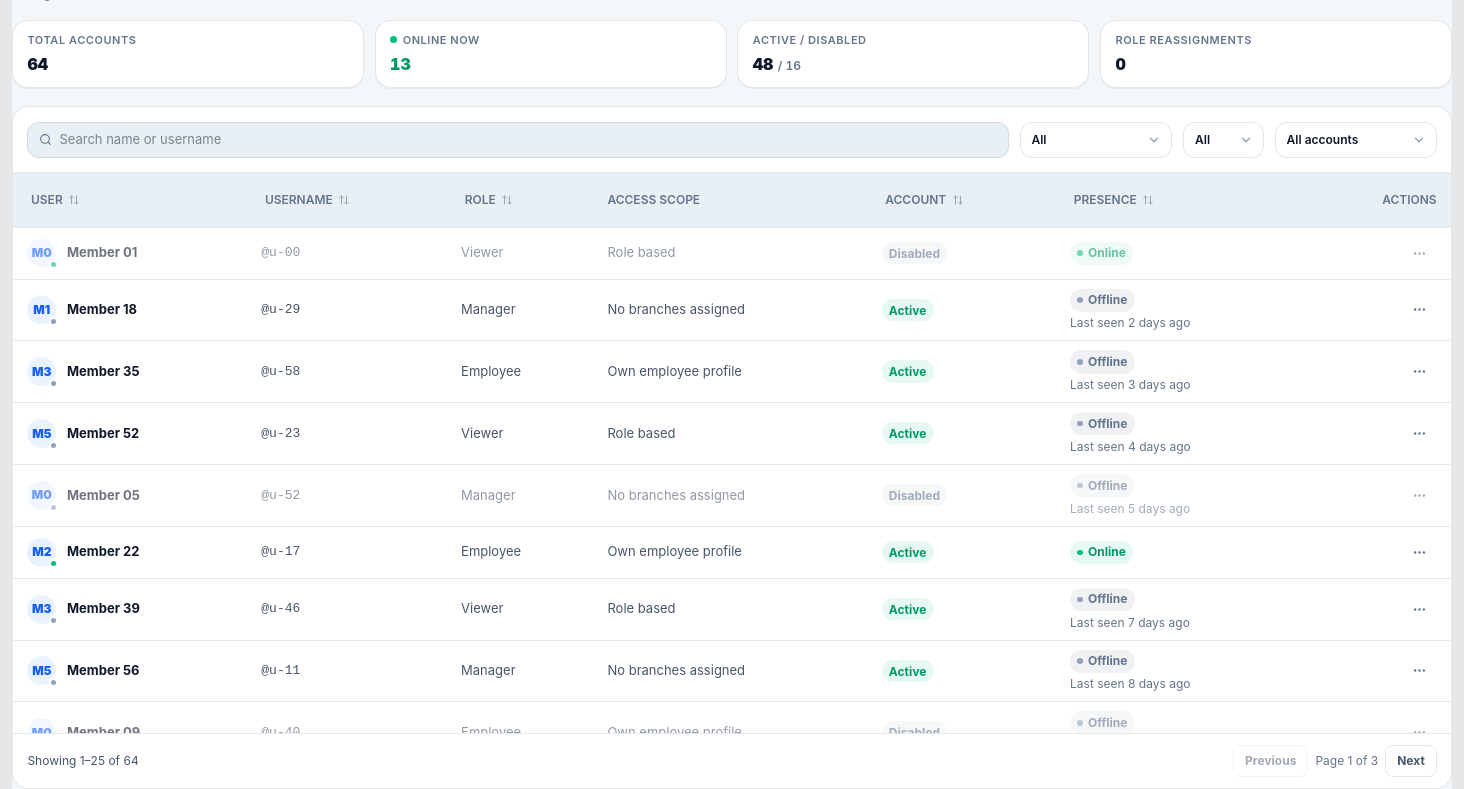
Test: Users paging resets › returns to page 1 when the search changes, even when the matches still fill several pages
(page scrolled)
Step 1. Click the button "Next" → {"x": 1411, "y": 761}, box [1385, 745, 1437, 777]
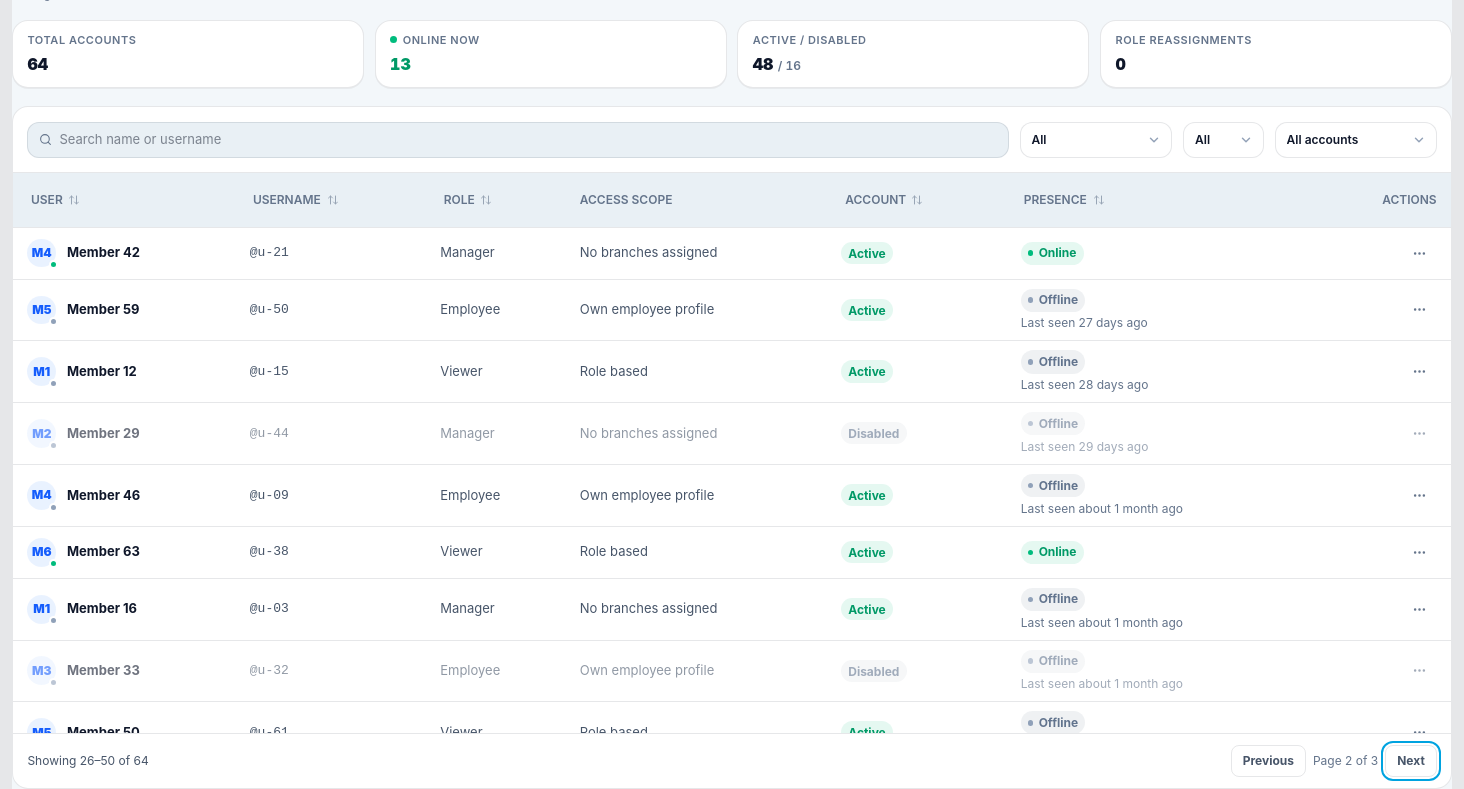
Expected: the text "Showing 26–50 of 64" is shown, [27, 753, 149, 769]
Step 2. Type "u" into the field named "Search users" → {"x": 528, "y": 140}, box [59, 130, 997, 149]
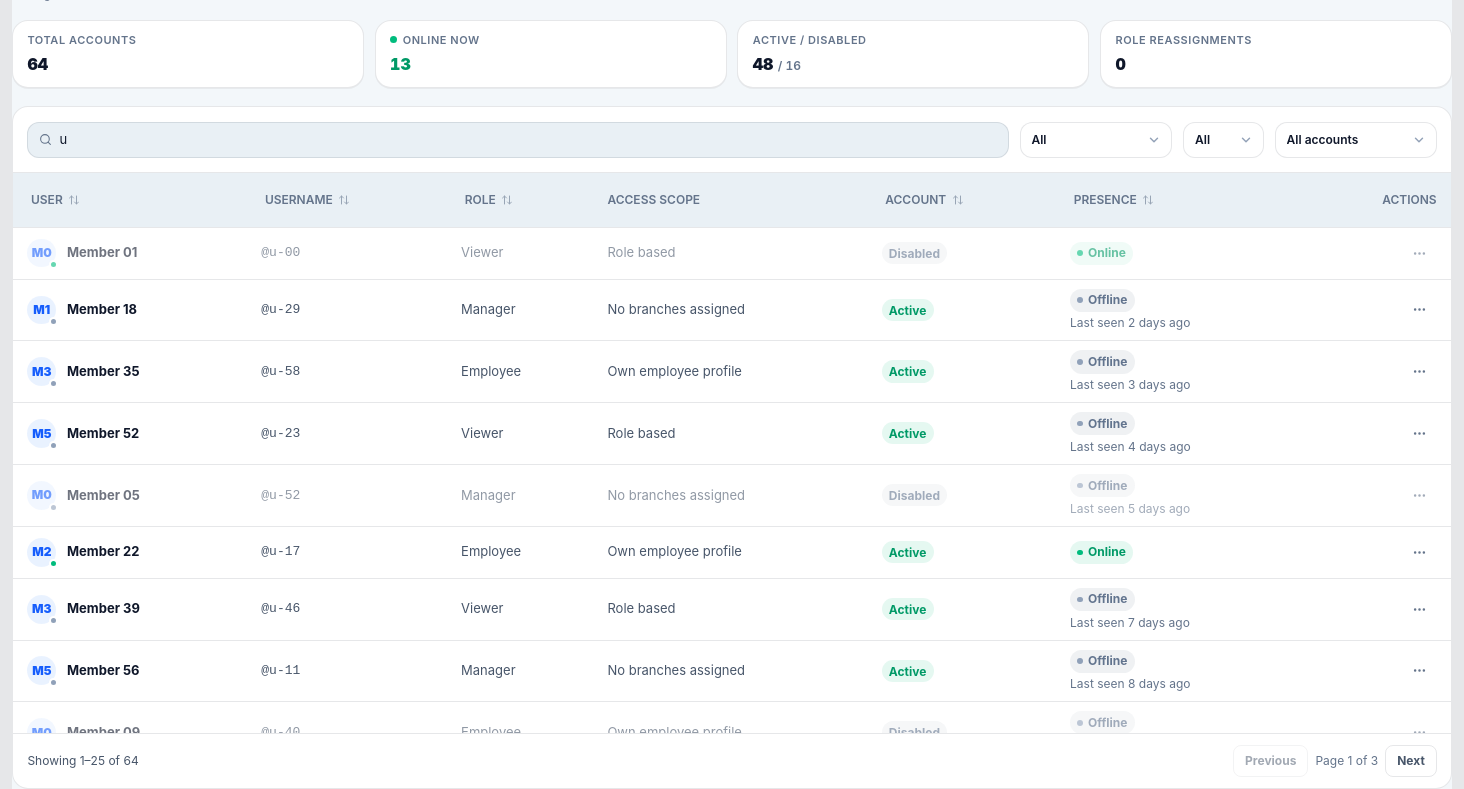
Expected: the text "Showing 1–25 of 64" is shown, [27, 753, 139, 769]
